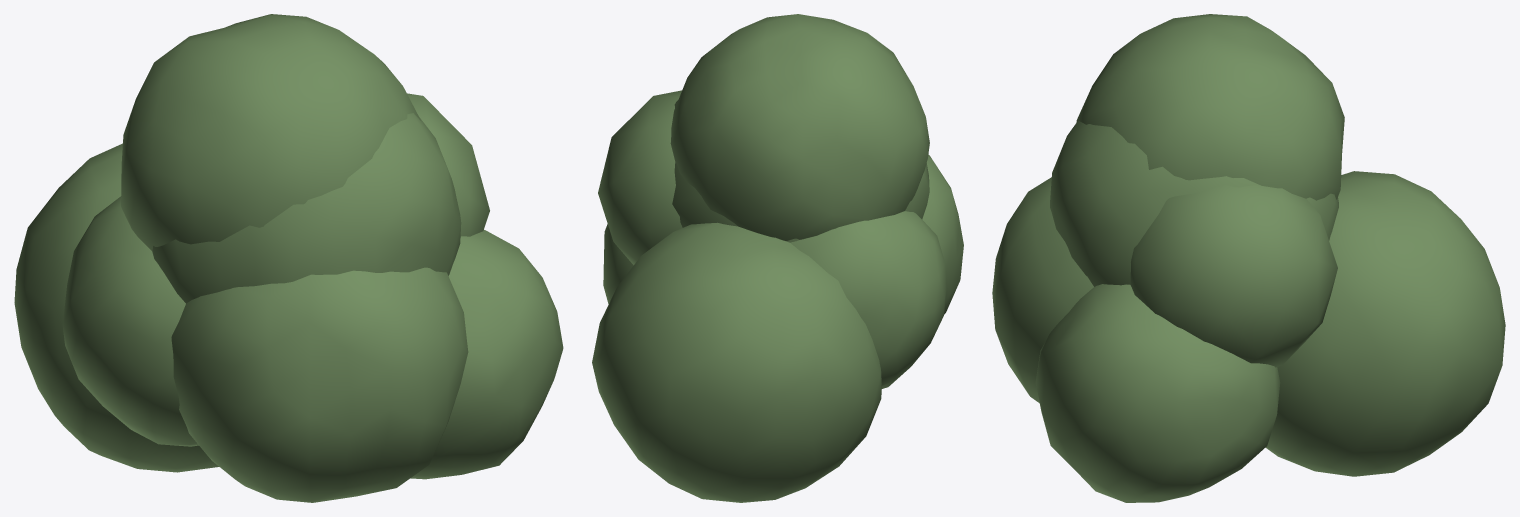
Rendered from NPR_07_1011__MOD__VegetationElements__Shrubs__Hydrangea__Var-01__.glb.
3 views of the same model, side by side, from view 1: azimuth 30°, elevation 25°; view 2: azimuth 150°, elevation 25°; view 3: azimuth 270°, elevation 25° (orthographic). The views are drawn at different scales.
Visible parts, largest first — view 1: NPR_07_1011__MOD__VegetationElements__Shrubs__Hydrangea__Var; view 2: NPR_07_1011__MOD__VegetationElements__Shrubs__Hydrangea__Var; view 3: NPR_07_1011__MOD__VegetationElements__Shrubs__Hydrangea__Var.
Part boxes in pixels (x1=…): NPR_07_1011__MOD__VegetationElements__Shrubs__Hydrangea__Var: x1=14, y1=14, x2=563, y2=502; NPR_07_1011__MOD__VegetationElements__Shrubs__Hydrangea__Var: x1=592, y1=14, x2=963, y2=502; NPR_07_1011__MOD__VegetationElements__Shrubs__Hydrangea__Var: x1=992, y1=14, x2=1505, y2=502.
Size of the model in its own units: 1.14 by 1.26 by 1.34.
